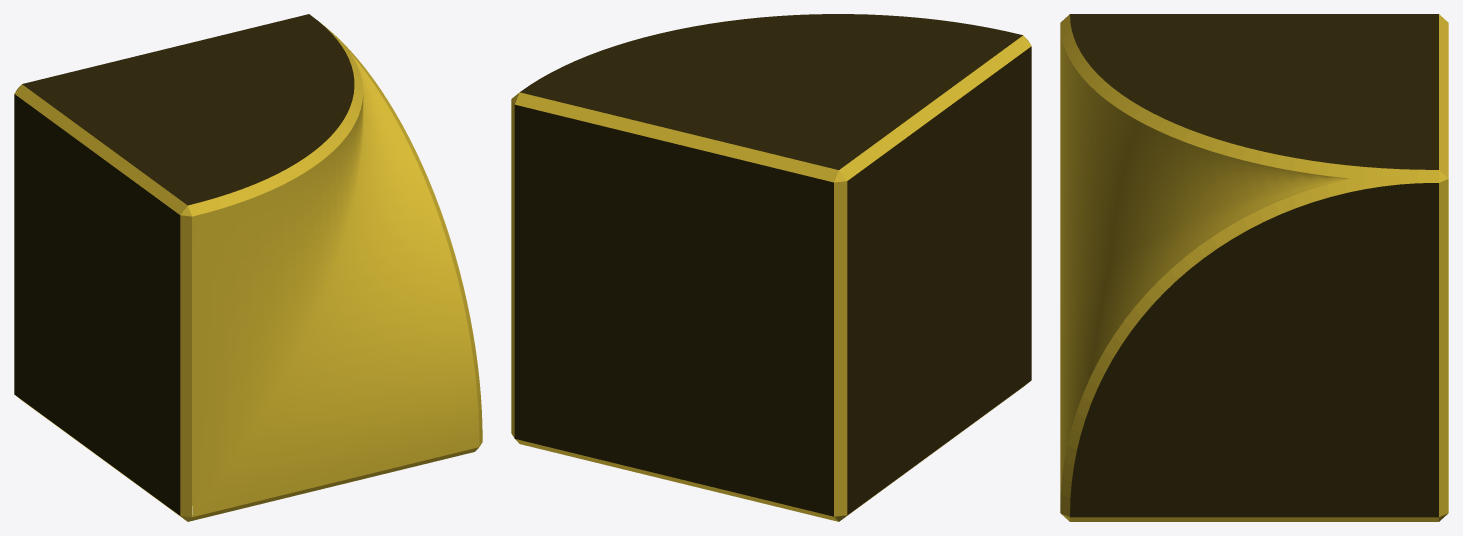
File: OffsetPrizmConvexNeugol.fbx
The picture shows the model from 3 angles, left to right: view 1: azimuth 30°, elevation 25°; view 2: azimuth 150°, elevation 25°; view 3: azimuth 270°, elevation 25°; orthographic projection. The views are drawn at different scales.
Parts seen in each view (by area): view 1: Cube; view 2: Cube; view 3: Cube.
Boxes of the visible parts, box(x1,y1,x2,y2) form: Cube: box(14, 14, 482, 521); Cube: box(511, 14, 1031, 521); Cube: box(1060, 14, 1448, 521).
Bounding box in the file's own units: 2 × 2 × 2.
